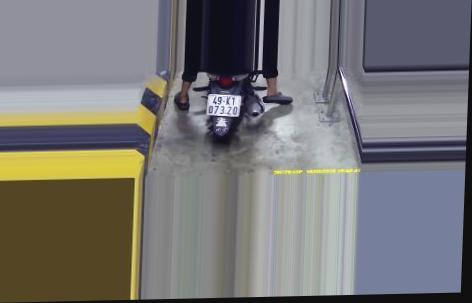License_Plate: (203, 92, 243, 120)
